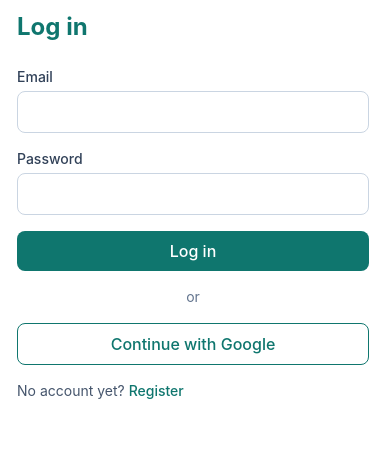
Login page › shows a message when login fails
Step 1. Type "amina@example.com" into the field labelled "Email" → (193, 112), box top-left (17, 91), bottom-right (369, 133)
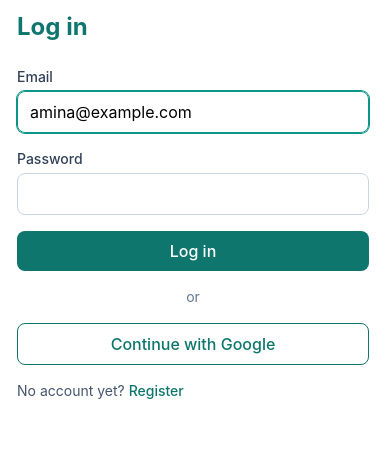
Step 2. Type "secret123" into the password field labelled "Password" → (193, 194), box top-left (17, 173), bottom-right (369, 215)
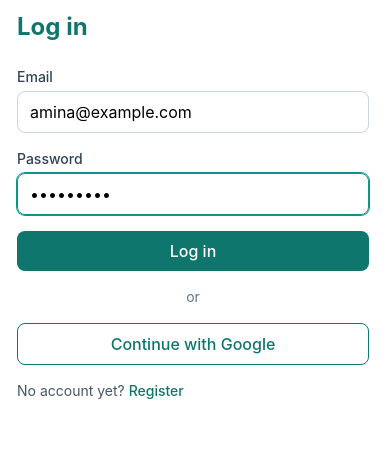
Step 3. Click the button "Log in" → click(193, 251), box top-left (17, 231), bottom-right (369, 271)
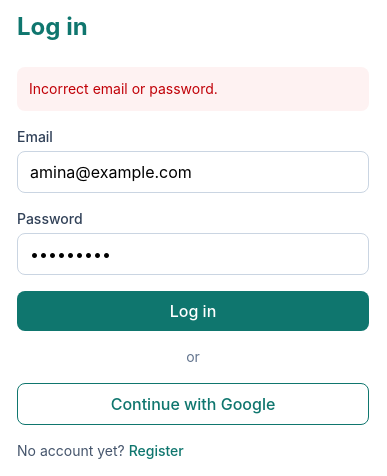
Expected: the message reads "Incorrect email or password.", top-left (29, 80), bottom-right (218, 97)
